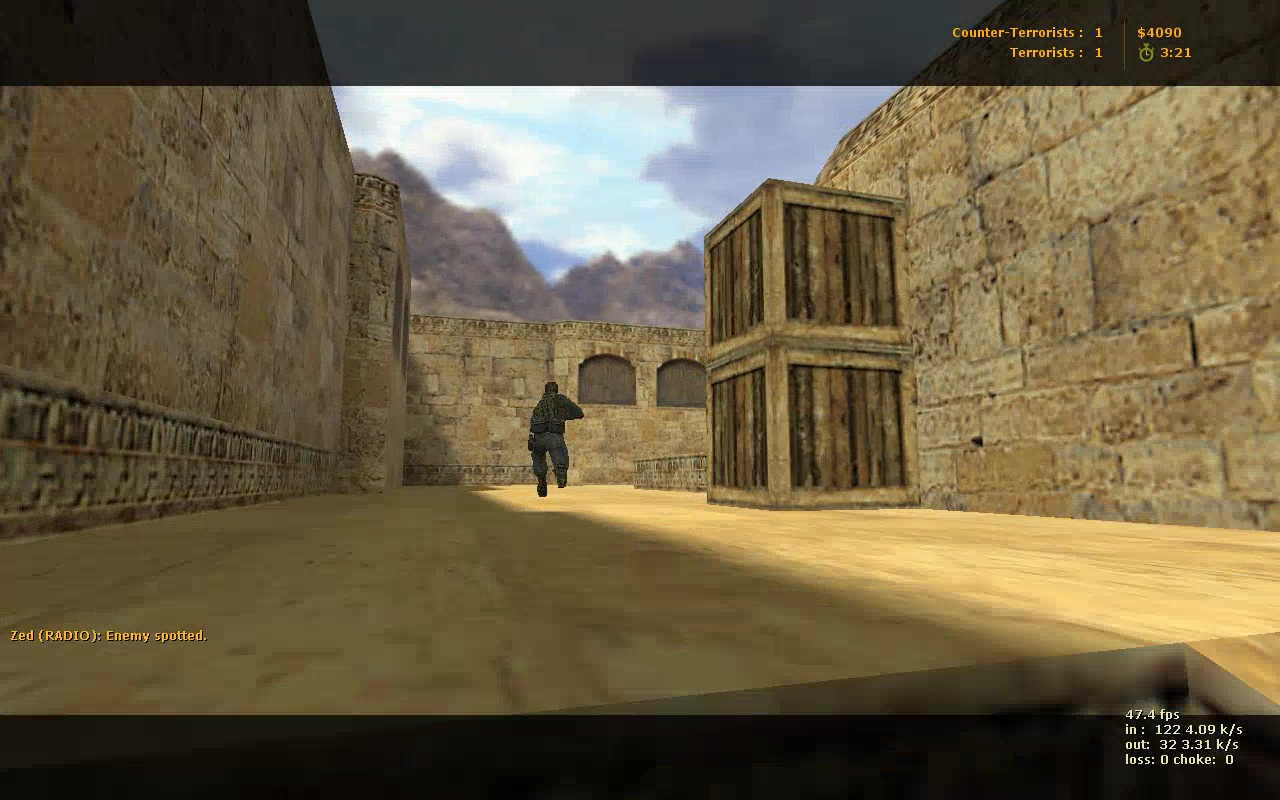ct: (528, 383, 585, 496)
